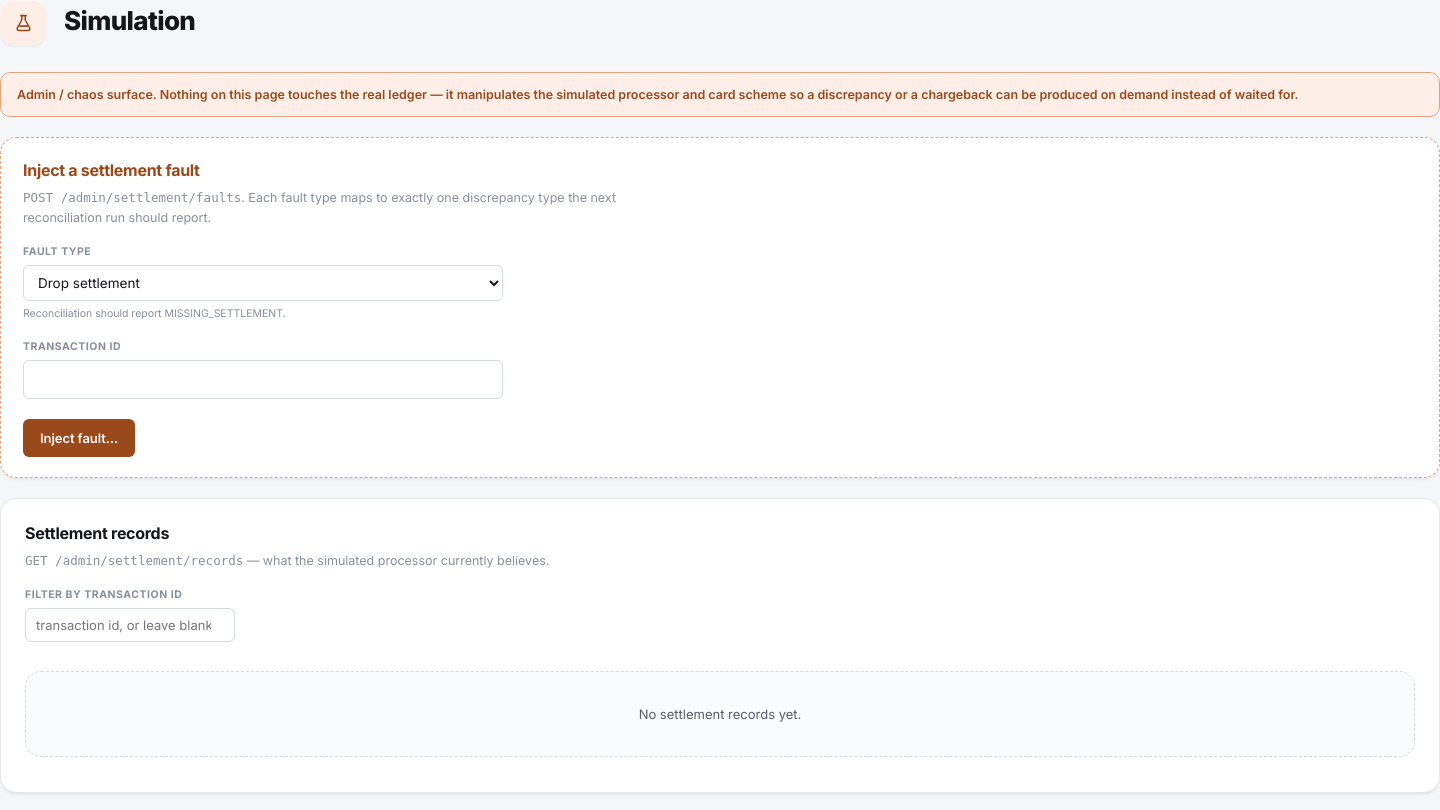
Test case: SimulationPage › requires an admin-toned confirm dialog before injecting a settlement fault
This screenshot has width=1440, height=810.
Expected: the text "Admin / chaos surface" is shown, top-left (17, 87), bottom-right (1299, 102)
Step 1. Type "77777777-7777-7777-7777-777777777777" into the field labelled "Transaction id" → (263, 379), box top-left (23, 360), bottom-right (503, 399)
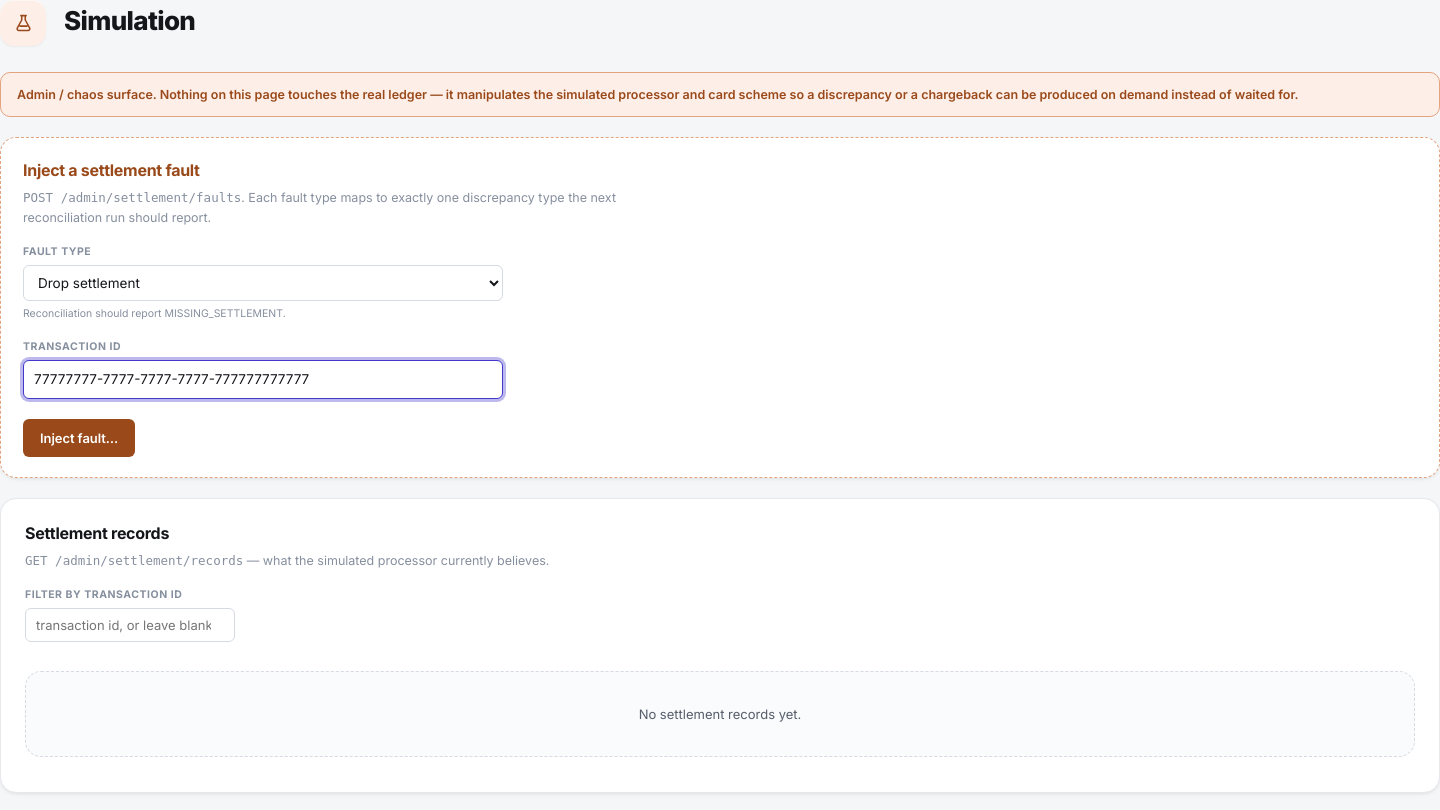
Step 2. Click the button "Inject fault…" → (79, 438), box top-left (23, 419), bottom-right (135, 457)
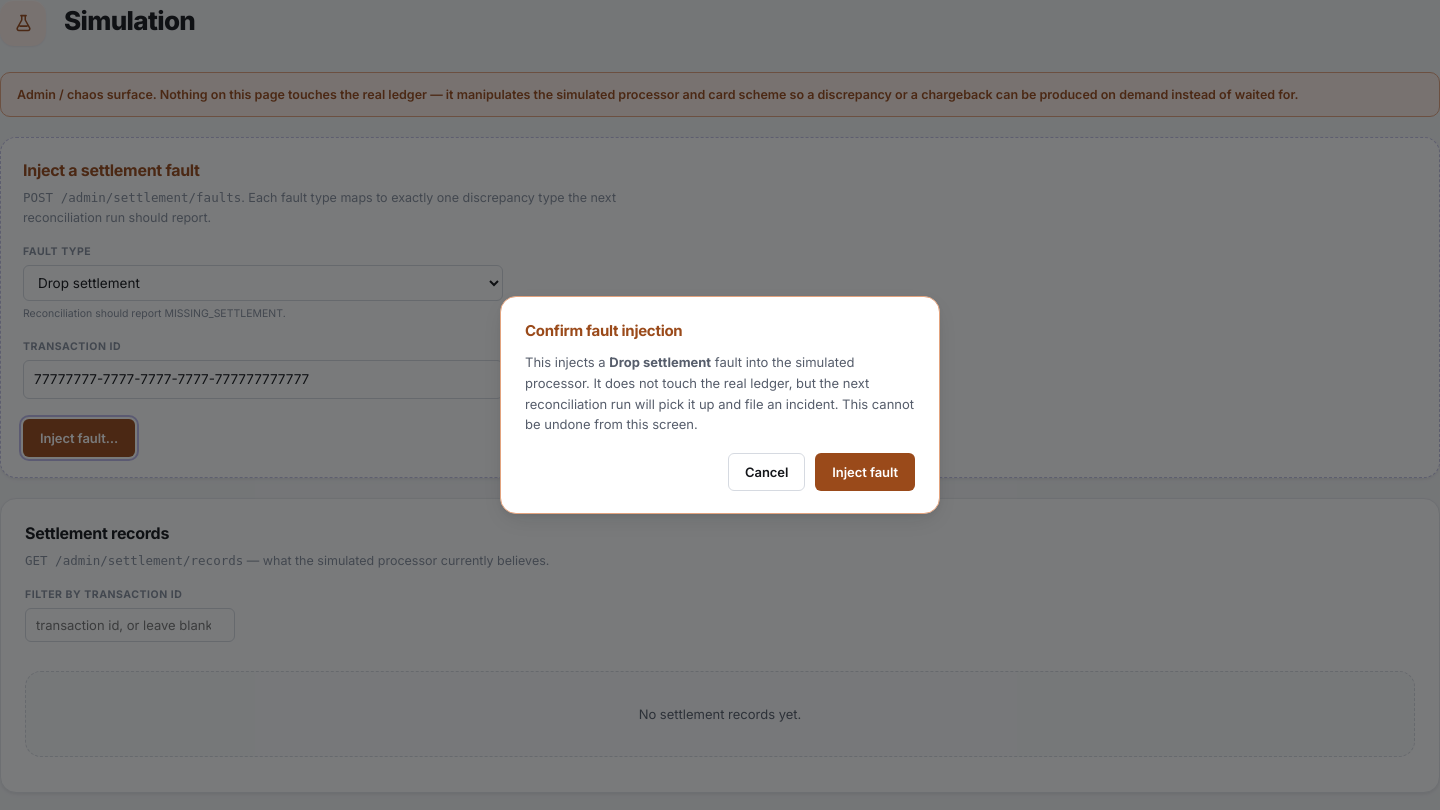
Expected: the dialog shows "does not touch the real ledger", top-left (525, 354), bottom-right (914, 432)
Step 3. Click the button "Inject fault" → (865, 472), box top-left (815, 453), bottom-right (915, 491)
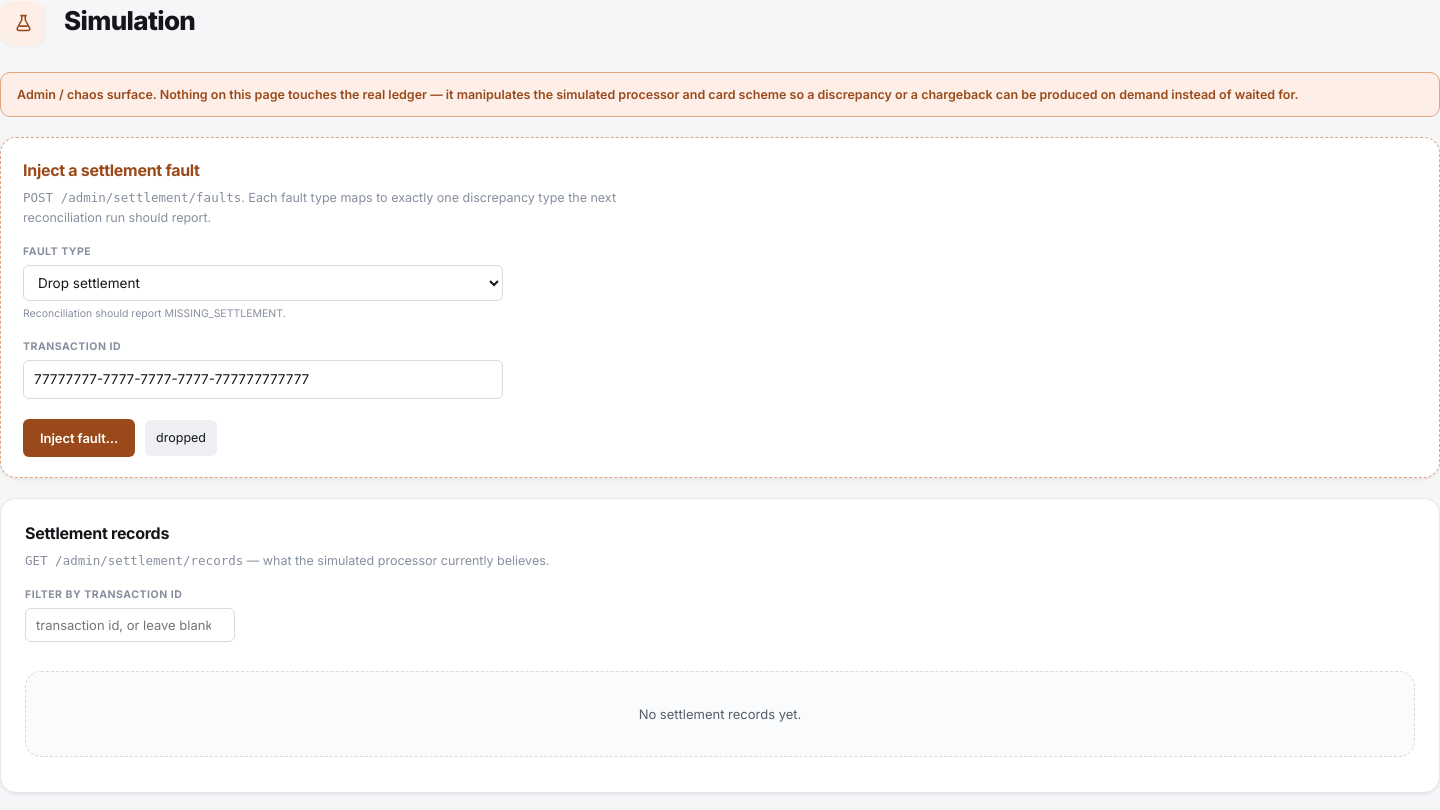
Expected: the text "dropped" is shown, top-left (145, 420), bottom-right (217, 456)
